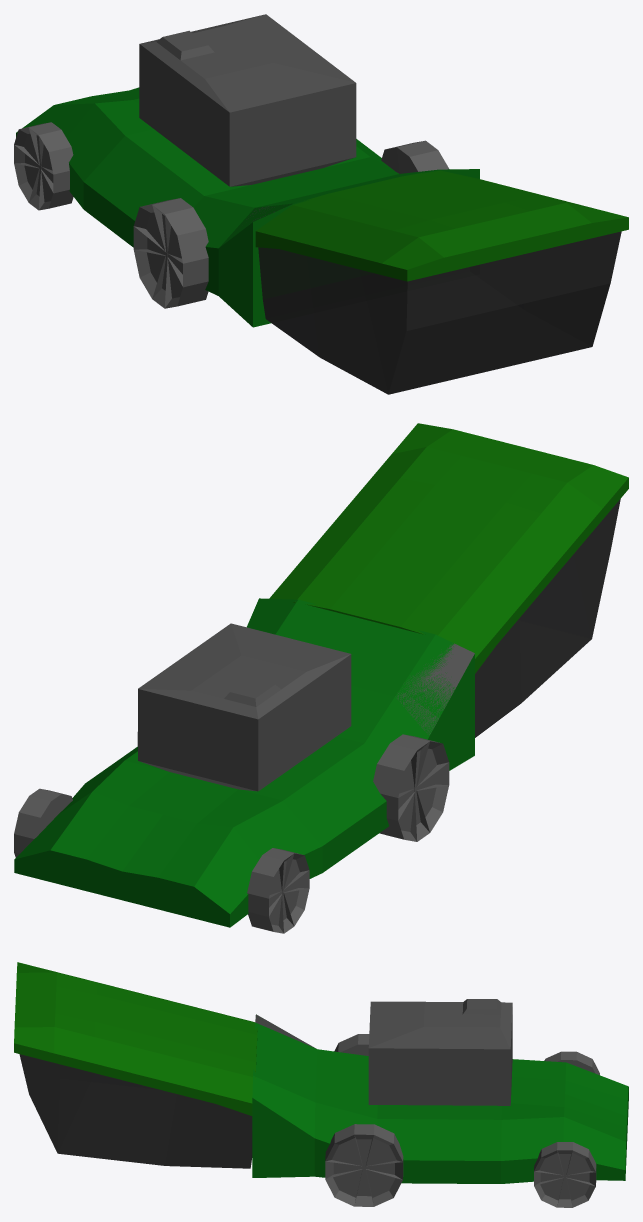
File: tondeuse.glb
3 renders of one model, top to bottom at view 1: azimuth 30°, elevation 25°; view 2: azimuth 150°, elevation 25°; view 3: azimuth 270°, elevation 25°, orthographic. The views are drawn at different scales.
Parts seen in each view (by area): view 1: Cube; view 2: Cube; view 3: Cube.
Part boxes in pixels (bbox=[...]): Cube: bbox=[14, 14, 628, 394]; Cube: bbox=[14, 423, 628, 933]; Cube: bbox=[14, 962, 628, 1207].
Bounding box in the file's own units: 2.57 × 1.82 × 6.57.
